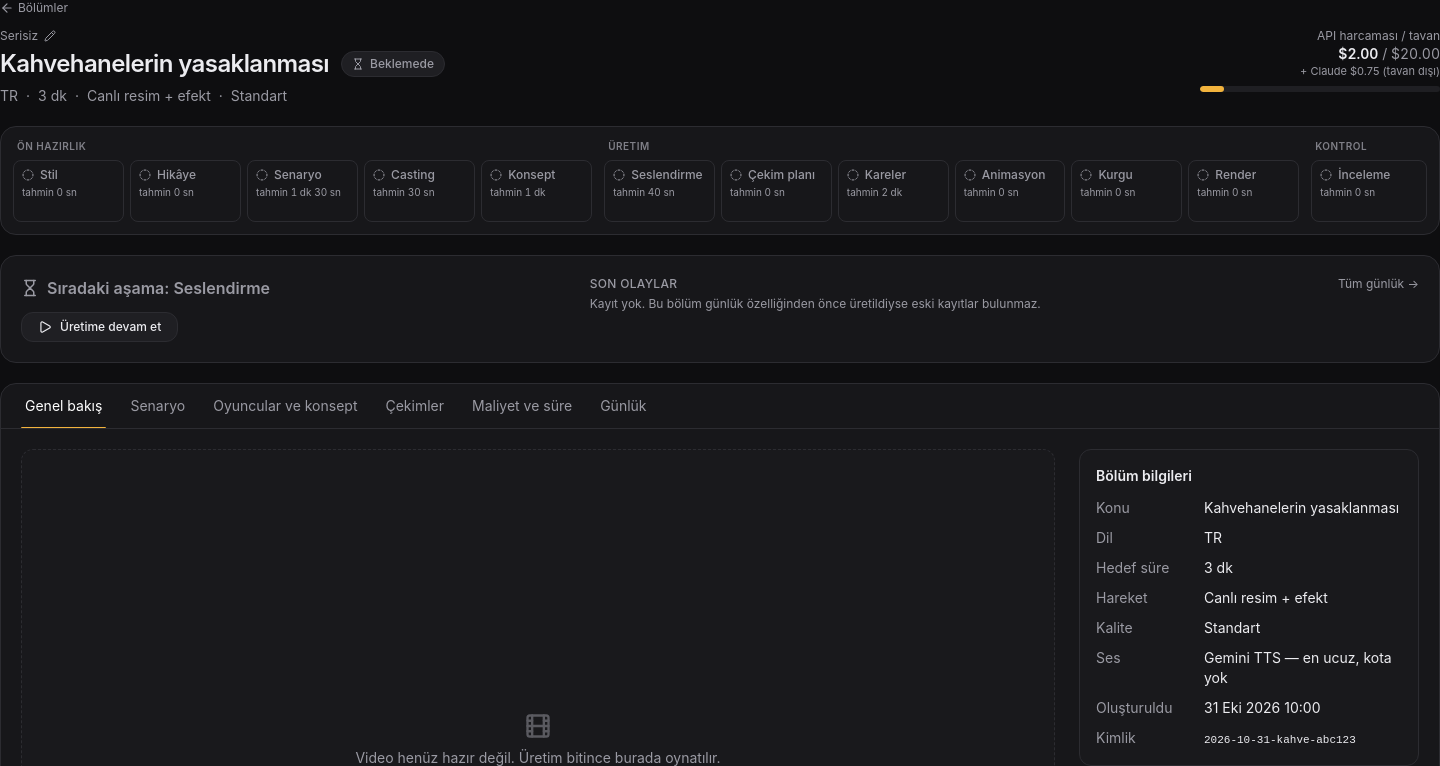
Test case: EpisodeView: eylem hataları › ağ hatasında genel mesaj ve düğmeler kilitli kalmaz (yenileme de düşse)
The image size is (1440, 766).
Expected: the navigation bar is shown, [1,384,1439,429]
Click the button "Üretime devam et" at (100, 327), box [21,312,178,342]
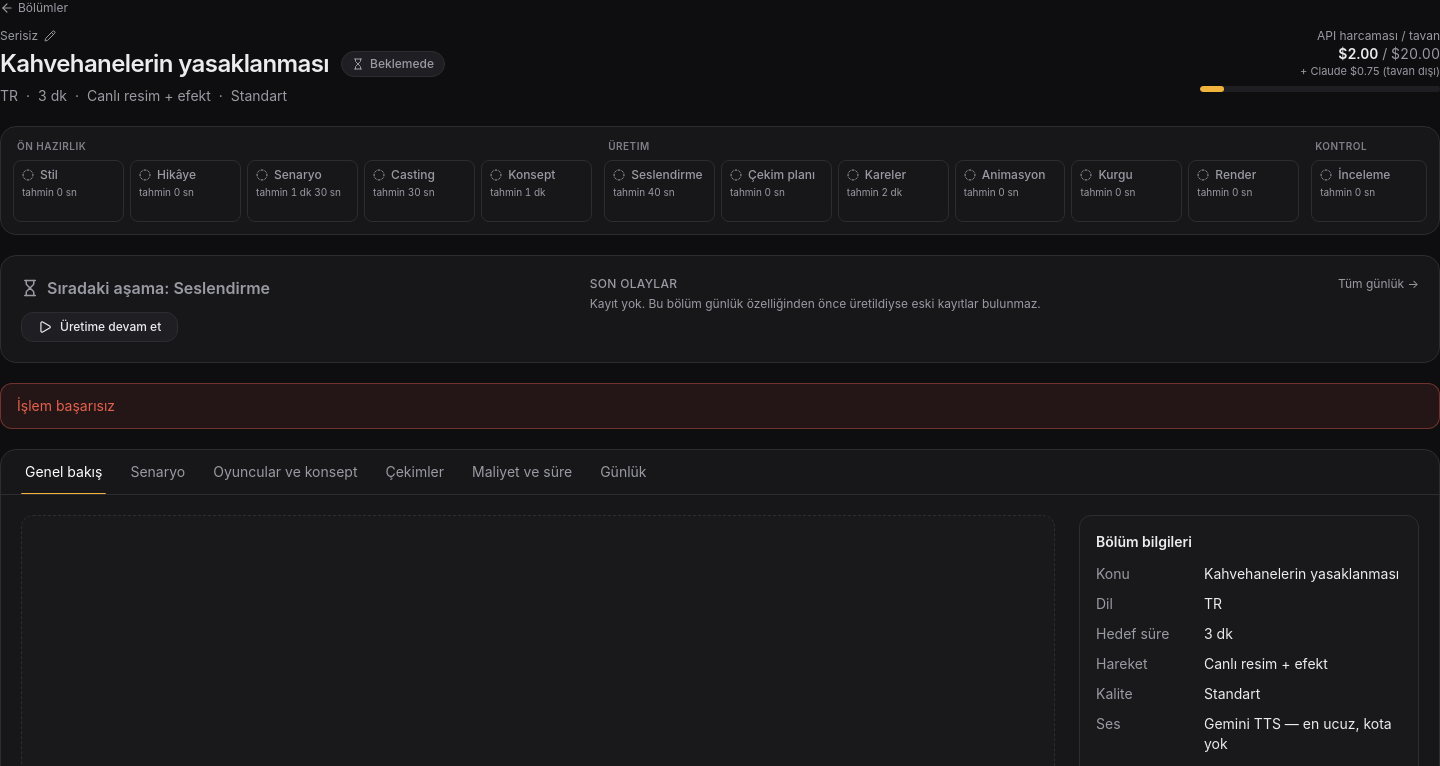
Expected: the text "İşlem başarısız" is shown, [0,383,1439,429]
